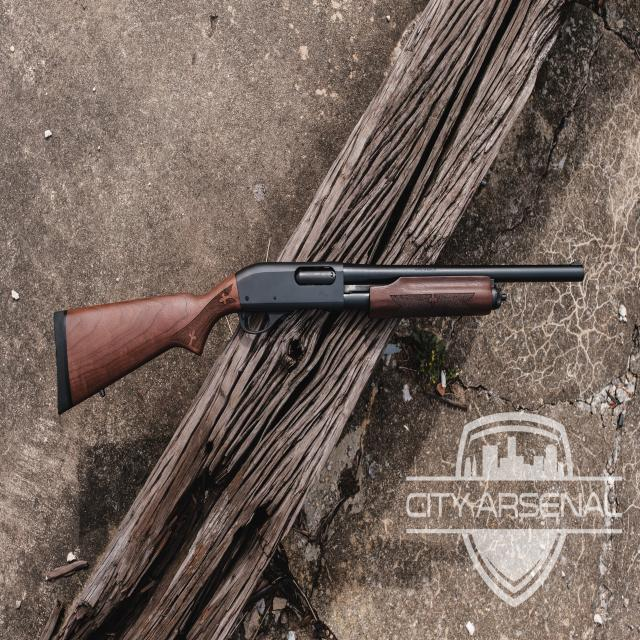ShotGun: (63, 263, 586, 404)
